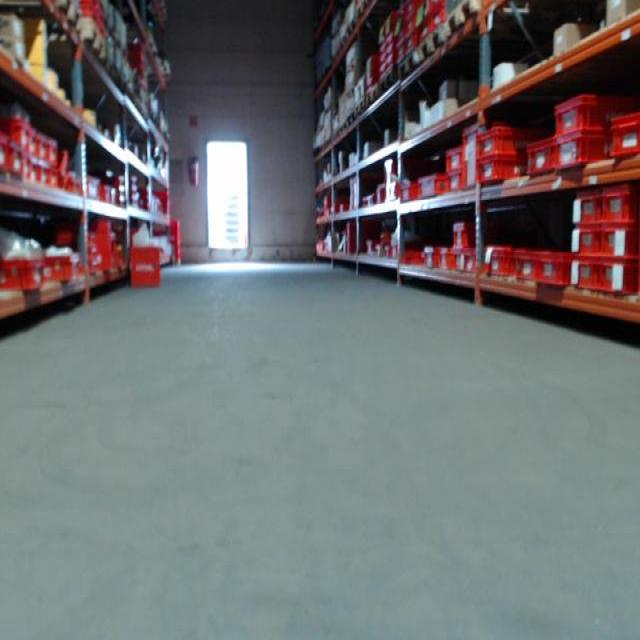pallet: (76, 14, 108, 64), (445, 0, 482, 39), (418, 24, 445, 64), (52, 0, 79, 23), (399, 49, 418, 81), (380, 67, 397, 94), (357, 0, 373, 21), (367, 84, 380, 107), (355, 97, 366, 120), (346, 19, 356, 40), (347, 113, 355, 129), (339, 122, 347, 136)
small_load_carrier: (551, 91, 624, 137), (552, 137, 621, 172), (2, 256, 44, 303), (477, 130, 527, 169), (475, 154, 530, 189), (463, 120, 485, 192), (600, 256, 636, 298), (608, 108, 640, 155), (521, 141, 556, 181), (129, 244, 162, 286), (45, 250, 81, 287), (537, 253, 569, 294), (604, 184, 636, 224), (483, 245, 517, 281), (568, 256, 604, 289), (513, 249, 544, 285), (570, 190, 601, 224), (570, 225, 603, 256), (601, 224, 636, 253), (1, 115, 28, 150), (416, 170, 445, 202), (449, 221, 484, 247), (68, 226, 100, 245), (445, 142, 462, 176), (446, 247, 465, 277), (2, 134, 14, 177), (398, 180, 418, 205), (419, 247, 438, 270), (432, 4, 447, 32), (74, 244, 101, 259), (417, 15, 430, 46), (445, 174, 466, 193), (29, 124, 40, 159), (462, 248, 478, 271), (8, 153, 23, 177), (46, 133, 57, 165), (81, 258, 99, 277), (36, 132, 47, 162), (20, 156, 32, 181)
